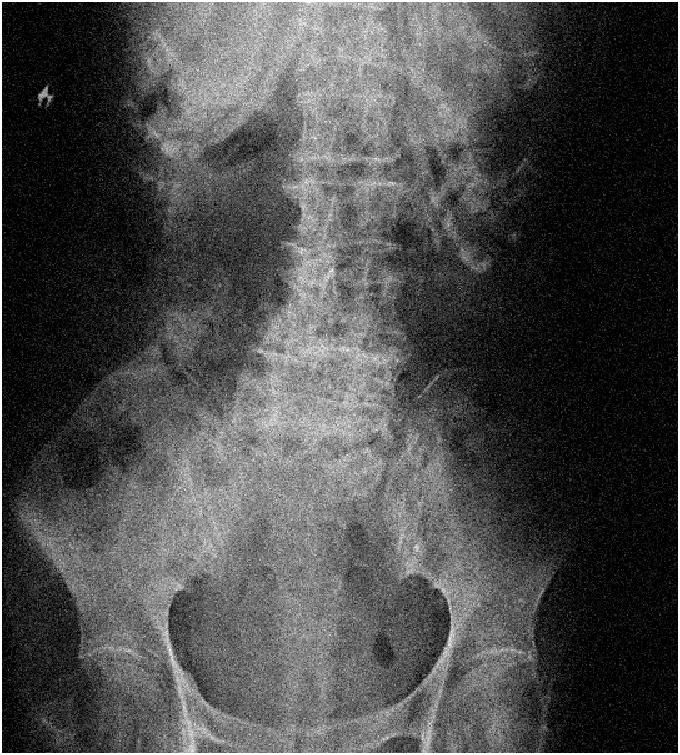lumbar scoliosis: (225, 119, 411, 460)
